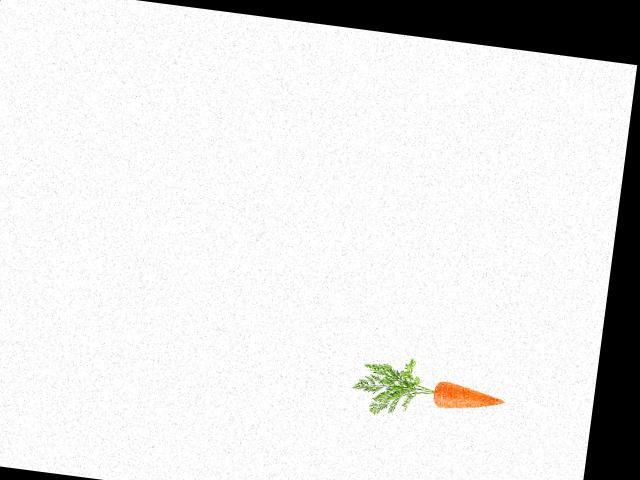carrot: (428, 372, 508, 422)
